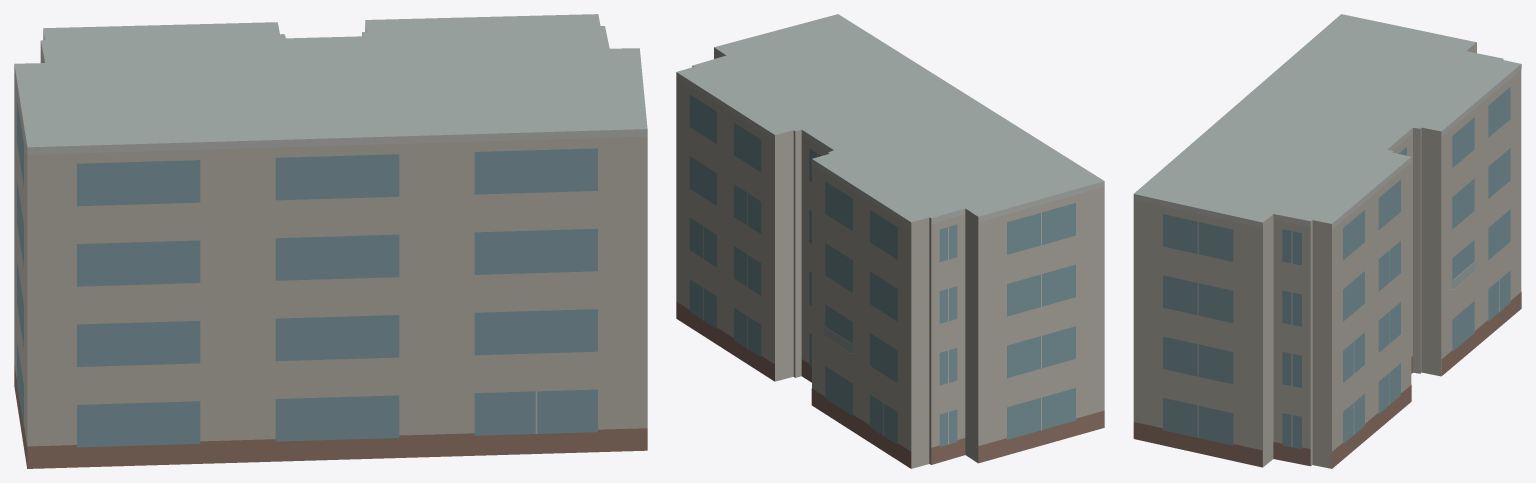
File: survey-upis-32883557.glb
3 renders of one model, left to right at view 1: azimuth 30°, elevation 25°; view 2: azimuth 150°, elevation 25°; view 3: azimuth 270°, elevation 25°, orthographic. The views are drawn at different scales.
Parts seen in each view (by area): view 1: survey-upis-32883557.tmp; view 2: survey-upis-32883557.tmp; view 3: survey-upis-32883557.tmp.
Part boxes in pixels (bbox=[...]): survey-upis-32883557.tmp: bbox=[14, 14, 647, 468]; survey-upis-32883557.tmp: bbox=[676, 14, 1104, 468]; survey-upis-32883557.tmp: bbox=[1133, 14, 1521, 468].
Size of the model in its own units: 19.49 by 10.6 by 15.22.
